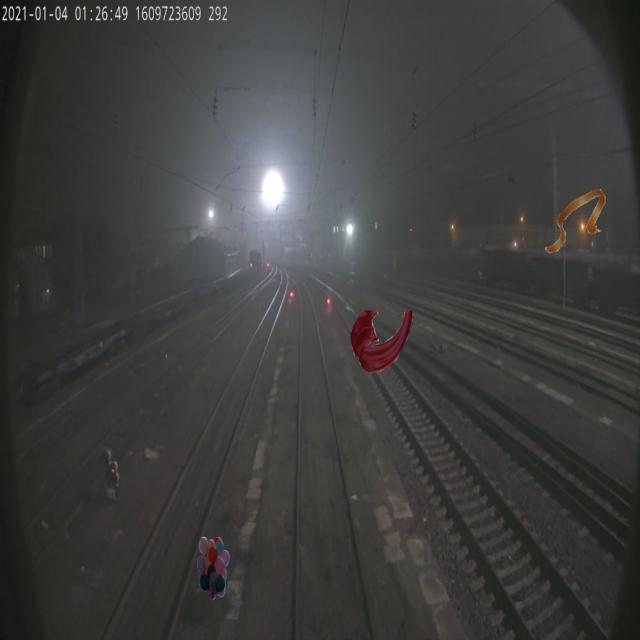balloon: (197, 536, 230, 600)
floating object: (350, 308, 414, 372), (546, 189, 606, 253)
